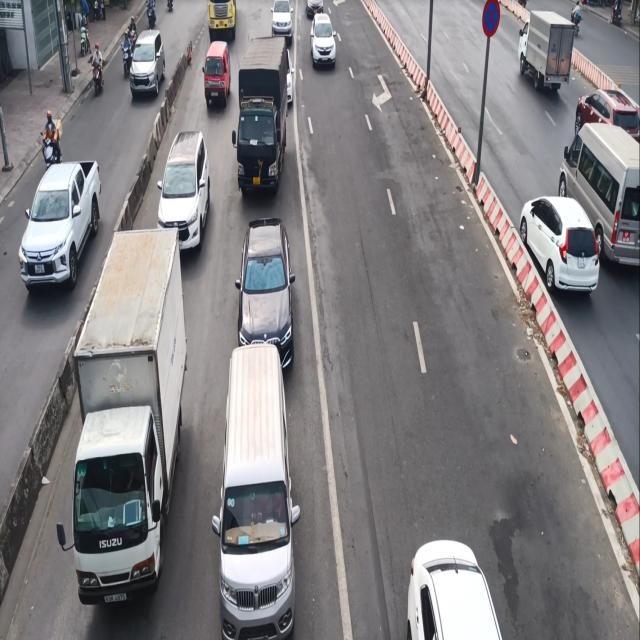car: (213, 344, 298, 640), (21, 157, 100, 293), (233, 214, 294, 356), (158, 122, 202, 250), (129, 27, 165, 105), (200, 39, 231, 116)
motor: (90, 41, 106, 98)
truck: (69, 227, 191, 640), (238, 46, 290, 208)
